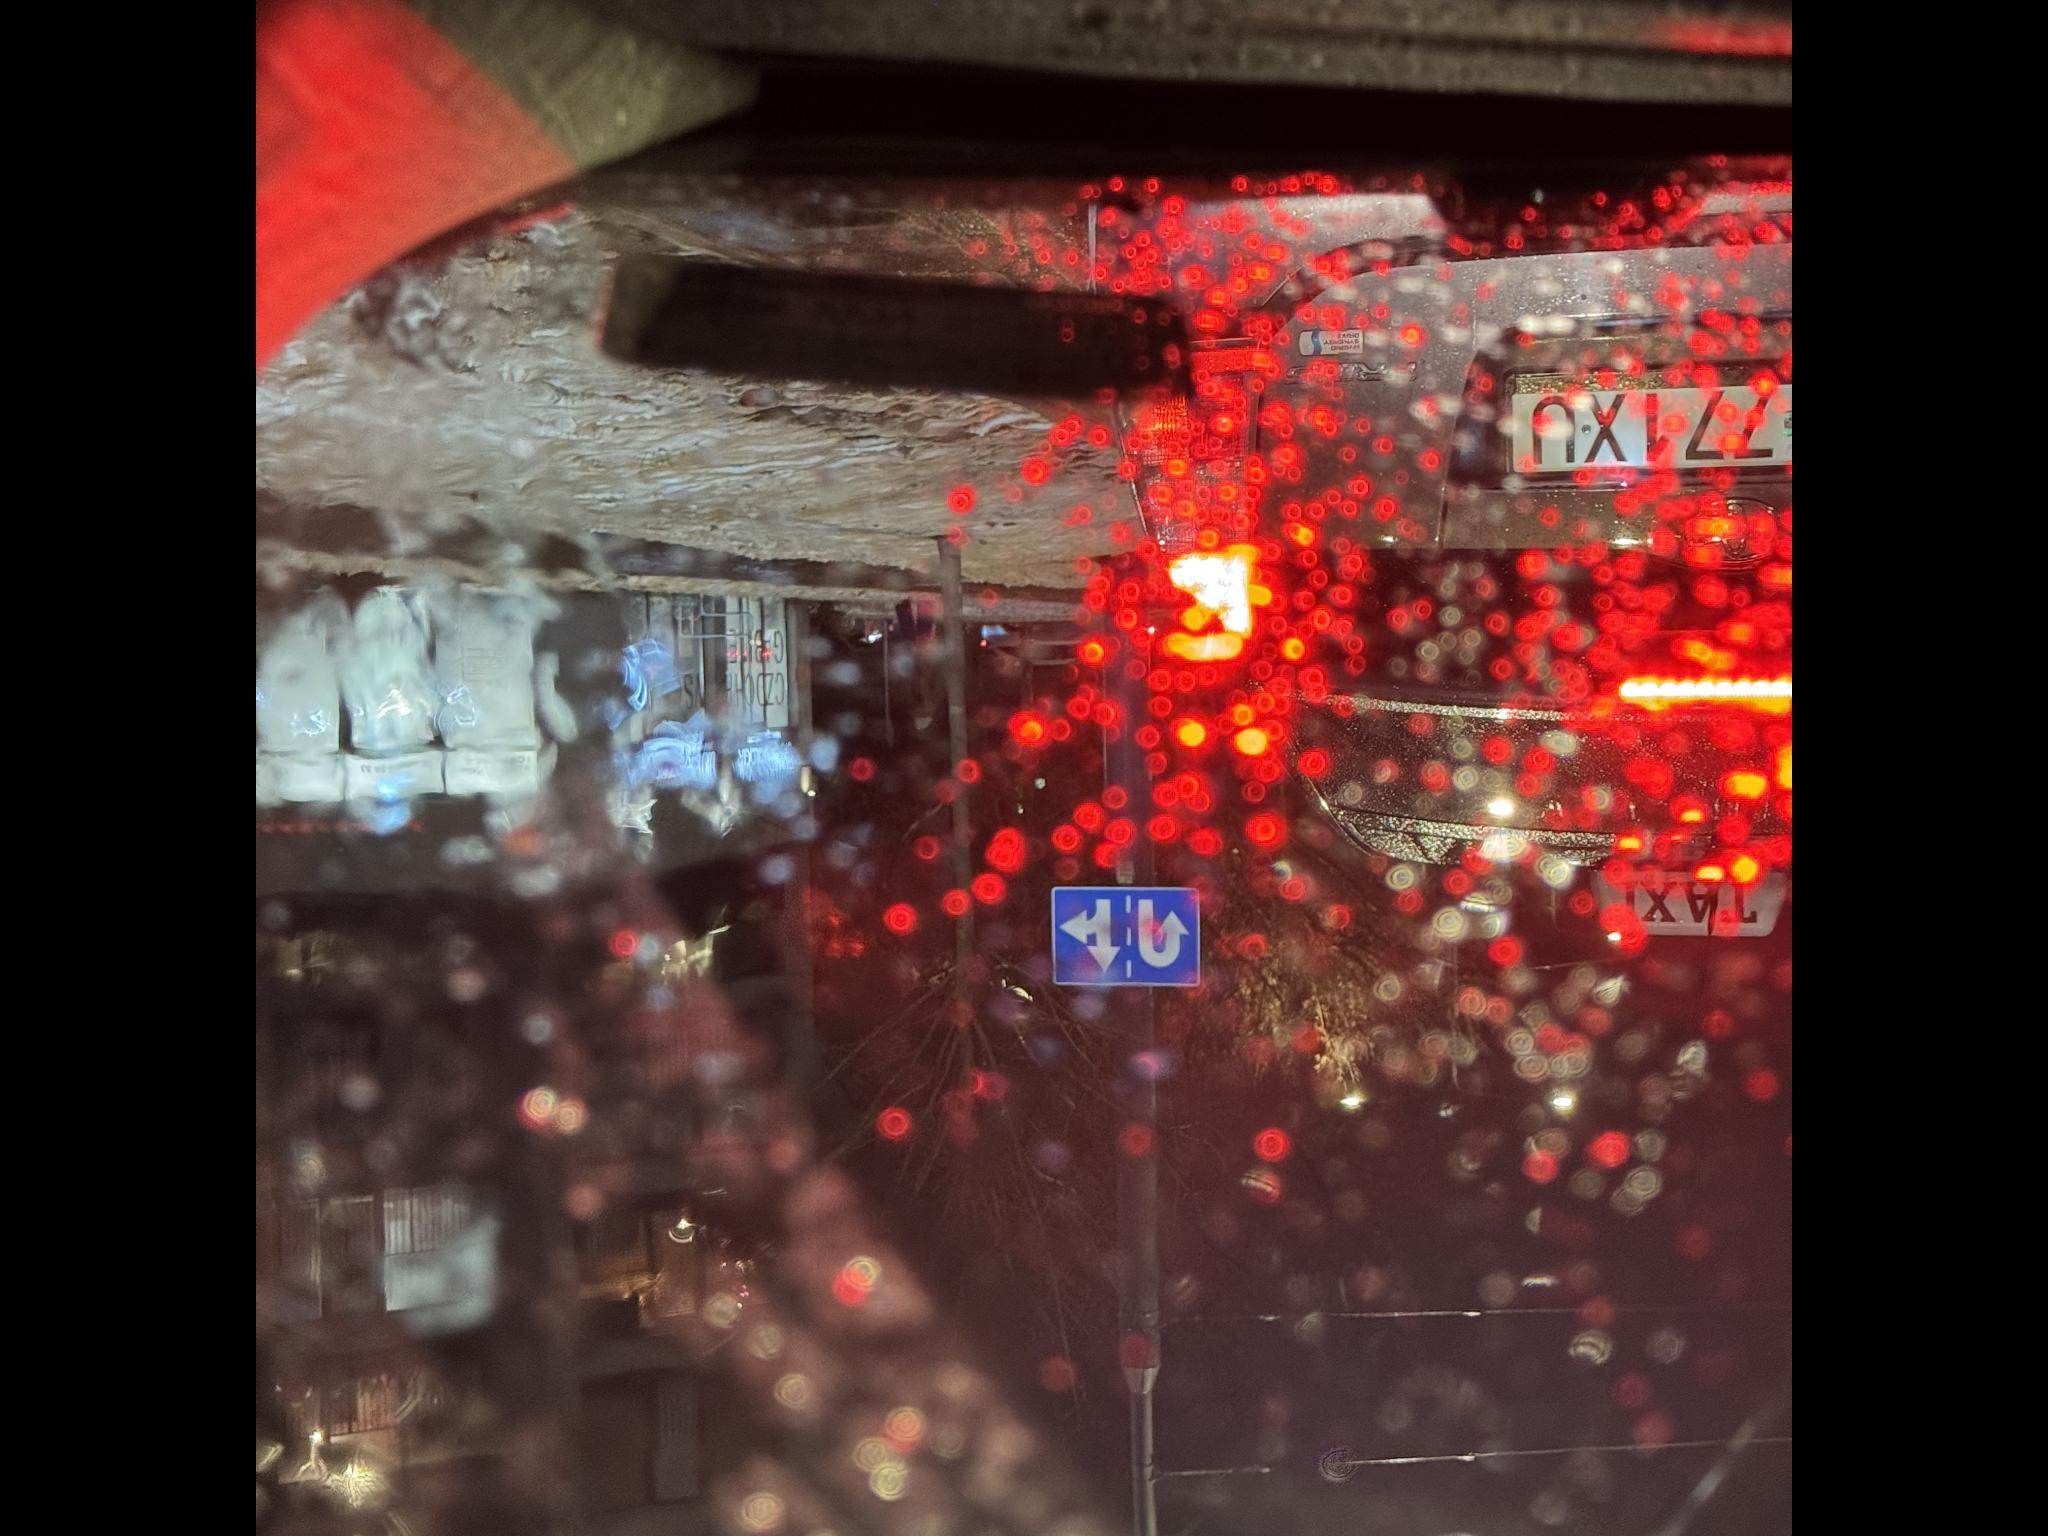other: (1061, 1049, 1163, 1202)
